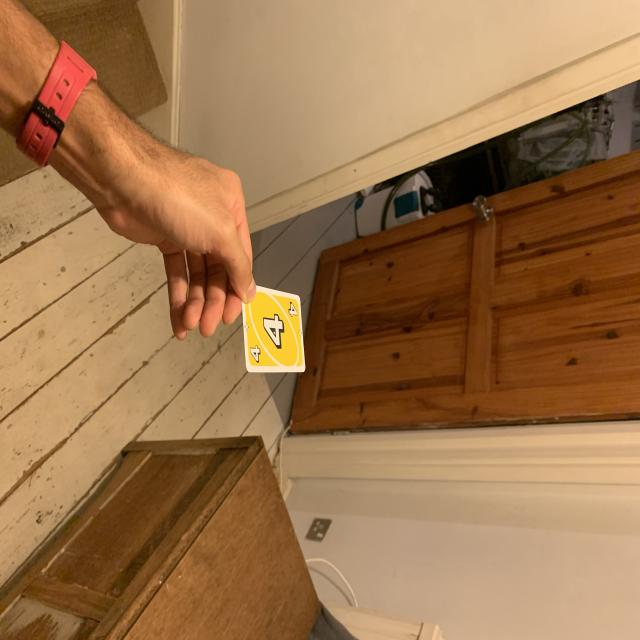lyellow-4: (286, 302, 298, 322)
